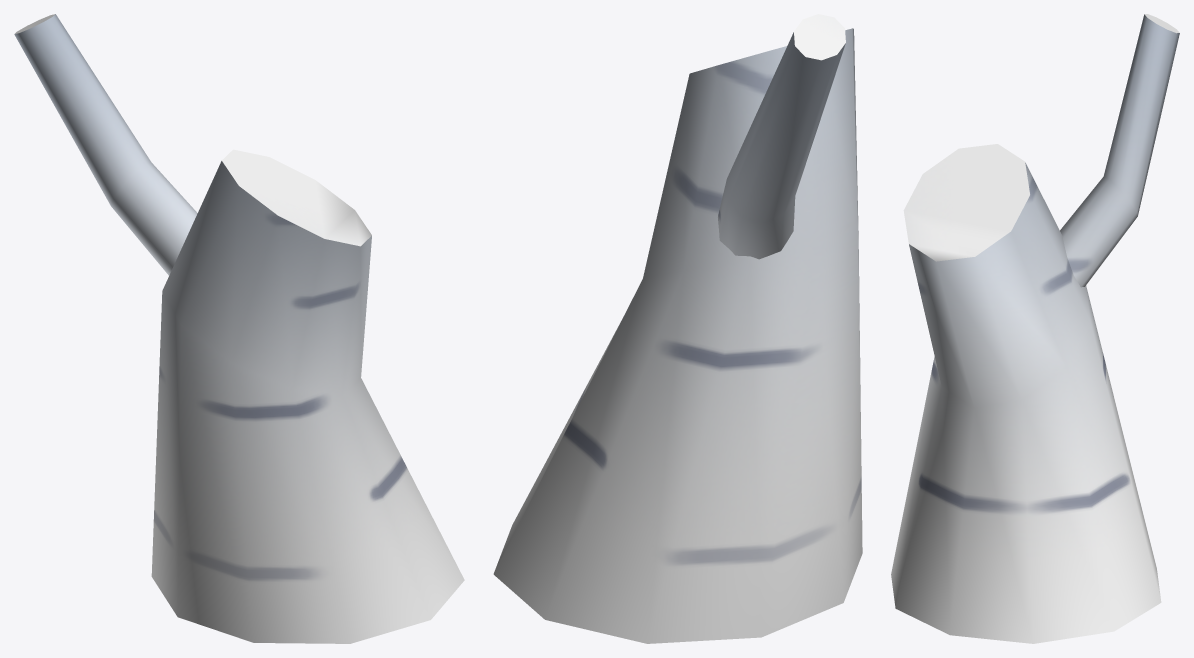
File: Low_Poly_Forest_treeBlob04.glb
3 views of the same model, side by side, from view 1: azimuth 30°, elevation 25°; view 2: azimuth 150°, elevation 25°; view 3: azimuth 270°, elevation 25° (orthographic). The views are drawn at different scales.
Visible parts, largest first — view 1: bark; view 2: bark; view 3: bark.
Part boxes in pixels (<box>): bark: <box>14,14,464,643</box>; bark: <box>493,14,862,643</box>; bark: <box>891,14,1179,643</box>.
Size of the model in its own units: 1.23 by 1.88 by 1.
1 material, 1 textured.
